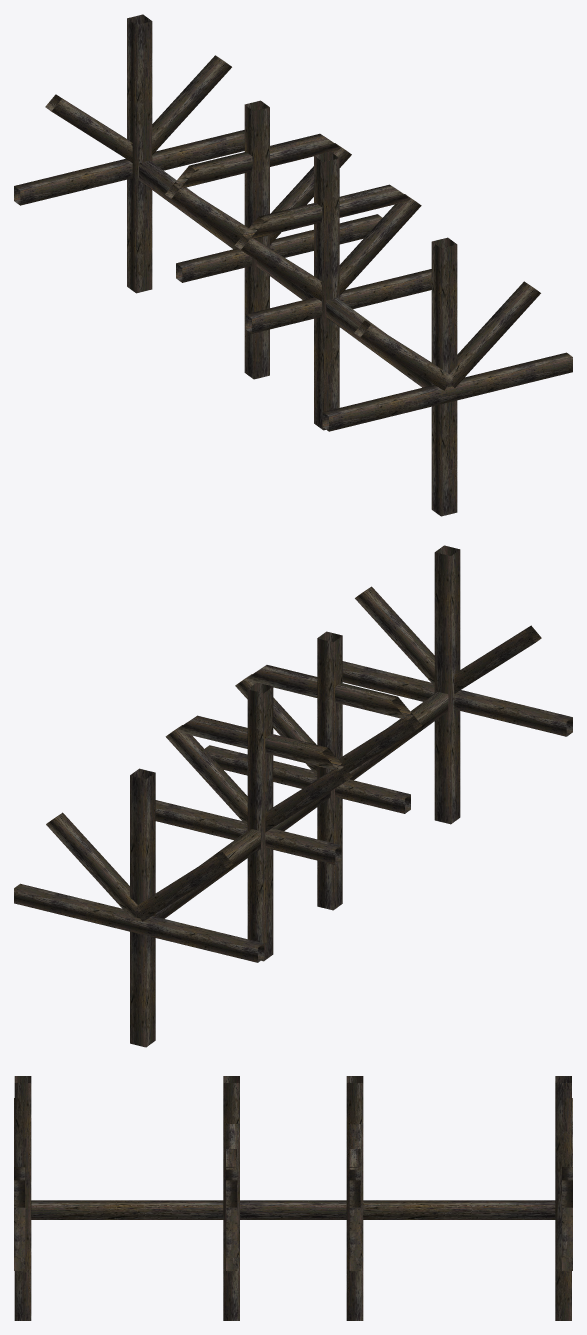
The model's file is NW_CITY_BEAMS_FARM_02.glb.
3 renders of one model, top to bottom at view 1: azimuth 30°, elevation 25°; view 2: azimuth 150°, elevation 25°; view 3: azimuth 270°, elevation 25°, orthographic. The views are drawn at different scales.
Visible parts, largest first — view 1: Mesh; view 2: Mesh; view 3: Mesh.
Part boxes in pixels (x1,y1,x2,y2): Mesh: (14,14,572,516); Mesh: (14,545,572,1047); Mesh: (14,1076,572,1320).
Size of the model in its own units: 6.76 by 7.1 by 15.12.
1 material, 1 textured.
